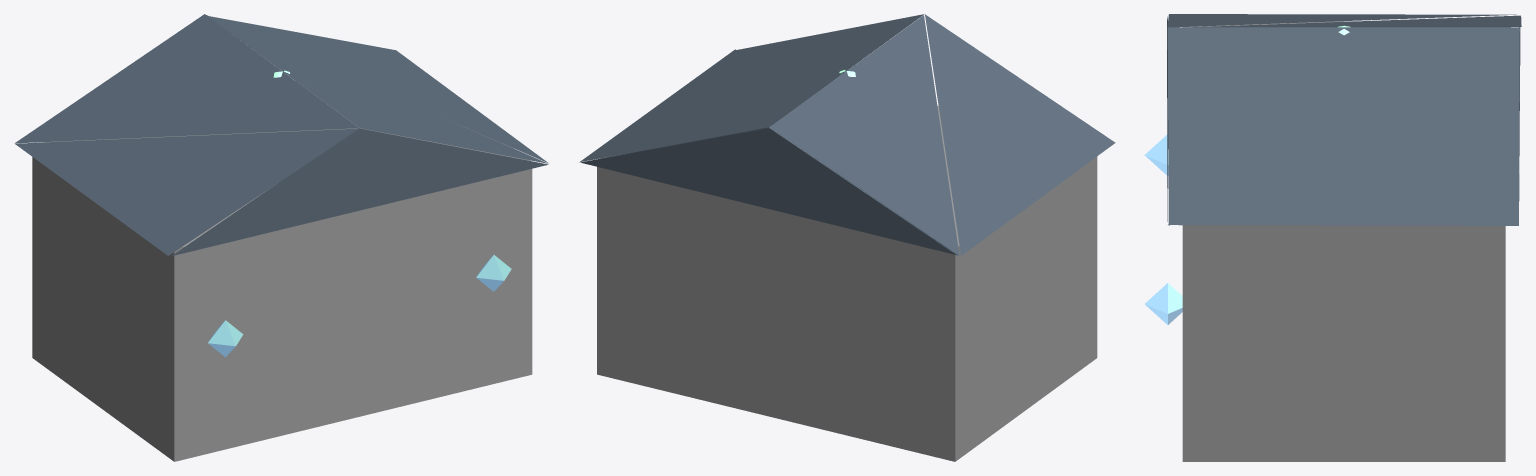
Rendered from workshop_t4.glb.
The picture shows the model from 3 angles, left to right: view 1: azimuth 30°, elevation 25°; view 2: azimuth 150°, elevation 25°; view 3: azimuth 270°, elevation 25°; orthographic projection. The views are drawn at different scales.
Visible parts, largest first — view 1: building-workshop; view 2: building-workshop; view 3: building-workshop.
Part boxes in pixels (<box>): building-workshop: <box>14,14,548,461</box>; building-workshop: <box>579,14,1115,461</box>; building-workshop: <box>1144,14,1521,461</box>.
Size of the model in its own units: 0.3217 by 0.2377 by 0.2419.
